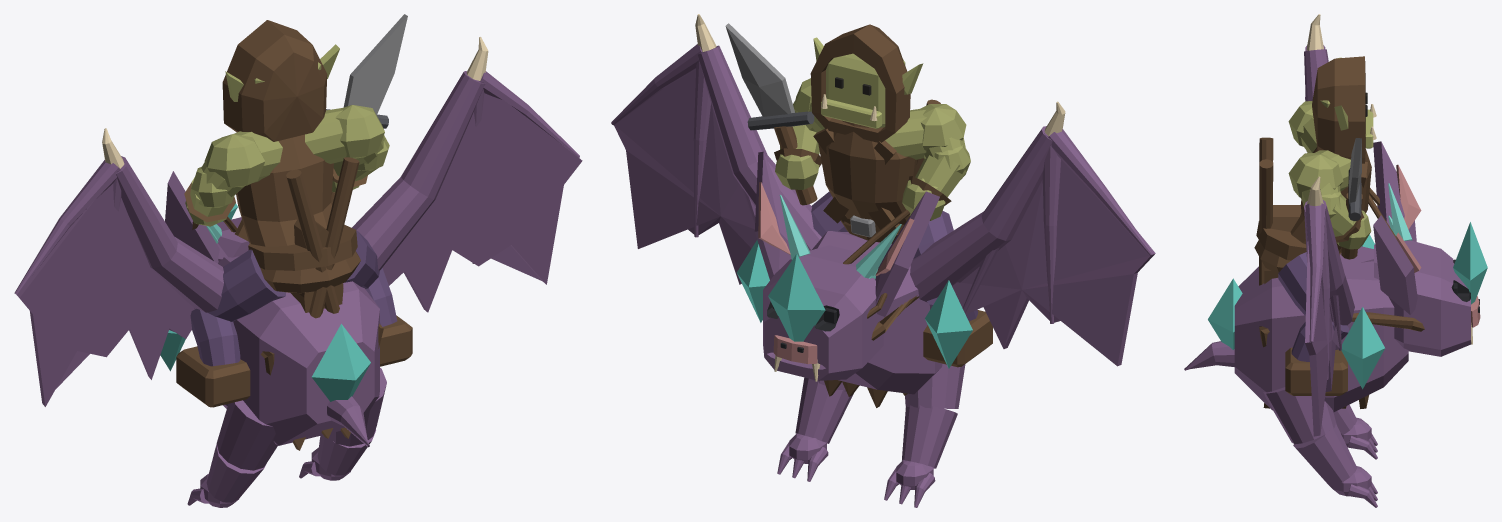
File: host_29.glb
3 views of the same model, side by side, from view 1: azimuth 30°, elevation 25°; view 2: azimuth 150°, elevation 25°; view 3: azimuth 270°, elevation 25° (orthographic). The views are drawn at different scales.
Visible parts, largest first — view 1: V6 source mounted closed scalloped membrane R, V6 source mounted closed scalloped membrane L, V6 mount continuous anatomical thorax, V6 source fitted domed cloth hood, V6 source mounted wing shoulder elbow wrist bone R, V6 rider source seated thorax, V6 source mounted wing shoulder elbow wrist bone L, Grounded boot L, V6 bat actual contacting hind thigh L, V6 source curved forged dagger blade, V6 rider actual connected seated thigh L, V6 Prismatic actual broad fitted rear thorax diamond (+22 smaller); view 2: V6 source mounted closed scalloped membrane L, V6 source mounted closed scalloped membrane R, V6 bat source short faceted cranium, V6 source mounted wing shoulder elbow wrist bone L, V6 mount continuous anatomical thorax, V6 rider source seated thorax, V6 source mounted wing shoulder elbow wrist bone R, V6 source fitted domed cloth hood, V6 Prismatic actual broad attached forehead diamond, V6 source curved forged dagger blade, V6 bat actual hind shin and ankle L, Observed face (+29 smaller); view 3: V6 mount continuous anatomical thorax, V6 bat source short faceted cranium, V6 source fitted domed cloth hood, V6 source mounted closed scalloped membrane R, V6 bat source tall pointed anatomical ear.001, V6 bat actual contacting hind thigh R, V6 bat actual hind shin and ankle R, V6 Prismatic actual broad attached wing-root diamond.001, V6 source actual membrane finger R, Grounded boot R, V6 source mounted wing shoulder elbow wrist bone R, Connected shoulder R (+29 smaller).
Part boxes in pixels (left/top/right/bottom): V6 source mounted closed scalloped membrane R: left=382, top=93, right=582, bottom=312; V6 source mounted closed scalloped membrane L: left=17, top=183, right=195, bottom=406; V6 mount continuous anatomical thorax: left=218, top=256, right=379, bottom=445; V6 source fitted domed cloth hood: left=222, top=20, right=327, bottom=141; V6 source mounted wing shoulder elbow wrist bone R: left=352, top=71, right=484, bottom=270; V6 rider source seated thorax: left=236, top=134, right=333, bottom=246; V6 source mounted wing shoulder elbow wrist bone L: left=116, top=156, right=223, bottom=312; Grounded boot L: left=176, top=346, right=250, bottom=407; V6 bat actual contacting hind thigh L: left=216, top=400, right=277, bottom=470; V6 source curved forged dagger blade: left=343, top=14, right=407, bottom=114; V6 rider actual connected seated thigh L: left=208, top=249, right=286, bottom=321; V6 Prismatic actual broad fitted rear thorax diamond: left=311, top=324, right=370, bottom=401; V6 source mounted closed scalloped membrane L: left=929, top=160, right=1155, bottom=366; V6 source mounted closed scalloped membrane R: left=614, top=70, right=756, bottom=284; V6 bat source short faceted cranium: left=763, top=245, right=883, bottom=380; V6 source mounted wing shoulder elbow wrist bone L: left=910, top=126, right=1052, bottom=302; V6 mount continuous anatomical thorax: left=812, top=231, right=942, bottom=394; V6 rider source seated thorax: left=818, top=120, right=916, bottom=225; V6 source mounted wing shoulder elbow wrist bone R: left=697, top=45, right=821, bottom=250; V6 source fitted domed cloth hood: left=810, top=24, right=910, bottom=142; V6 Prismatic actual broad attached forehead diamond: left=768, top=253, right=825, bottom=341; V6 source curved forged dagger blade: left=725, top=23, right=794, bottom=116; V6 bat actual hind shin and ankle L: left=902, top=405, right=957, bottom=468; Observed face: left=826, top=53, right=905, bottom=127; V6 mount continuous anatomical thorax: left=1234, top=246, right=1408, bottom=412; V6 bat source short faceted cranium: left=1374, top=240, right=1470, bottom=356; V6 source fitted domed cloth hood: left=1312, top=56, right=1365, bottom=163; V6 source mounted closed scalloped membrane R: left=1305, top=241, right=1339, bottom=436; V6 bat source tall pointed anatomical ear.001: left=1373, top=215, right=1417, bottom=314; V6 bat actual contacting hind thigh R: left=1263, top=387, right=1336, bottom=444; V6 bat actual hind shin and ankle R: left=1293, top=423, right=1356, bottom=486; V6 Prismatic actual broad attached wing-root diamond.001: left=1341, top=307, right=1384, bottom=389; V6 source actual membrane finger R: left=1305, top=203, right=1325, bottom=342; Grounded boot R: left=1285, top=347, right=1347, bottom=395; V6 source mounted wing shoulder elbow wrist bone R: left=1304, top=200, right=1354, bottom=325; Connected shoulder R: left=1288, top=152, right=1343, bottom=197.
Bounding box in the file's own units: 2.33 × 1.86 × 1.22.
